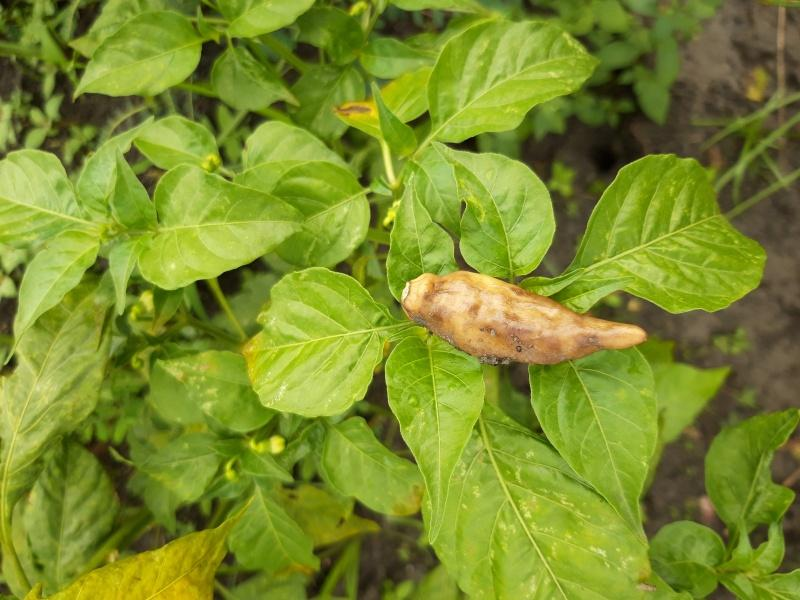lalat_buah: (401, 270, 648, 365)
